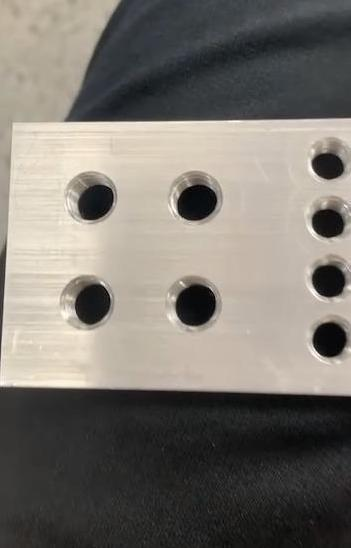hole: (166, 274, 221, 332), (167, 168, 223, 224), (64, 168, 119, 225), (60, 272, 114, 329), (307, 316, 351, 365), (304, 196, 351, 241), (306, 256, 351, 303), (308, 136, 351, 182)
